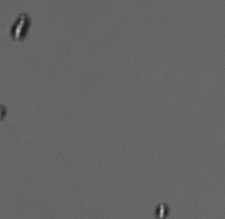Living Cell: (9, 14, 31, 40), (154, 203, 169, 216)
